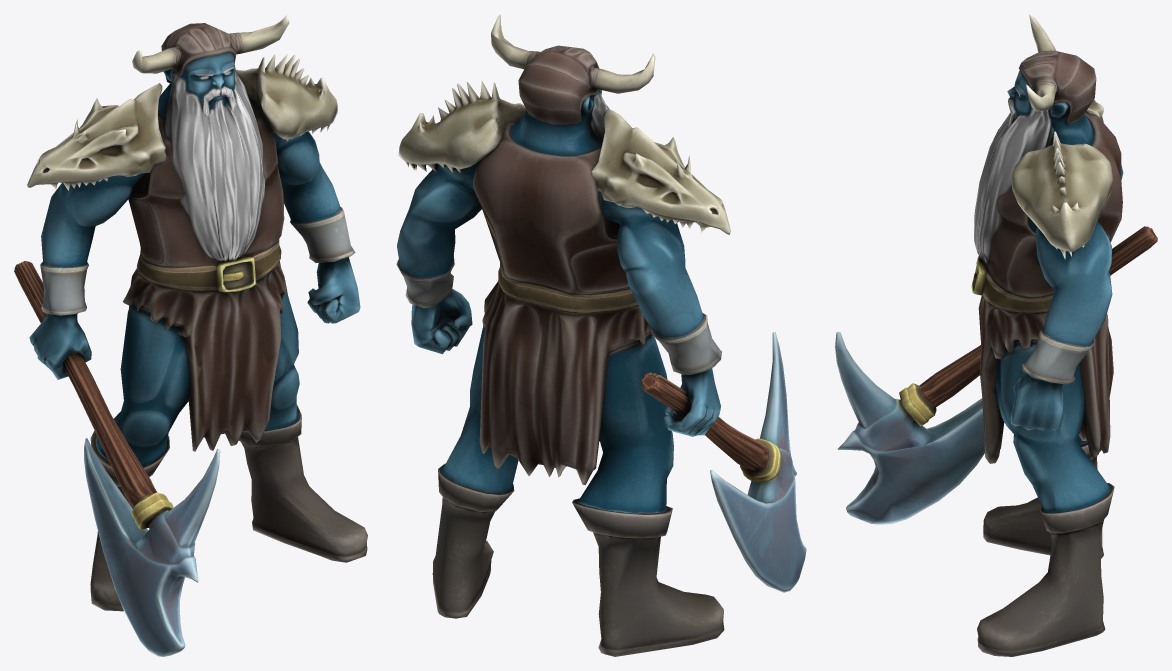
The model's file is MZ4250 - Frost Giant (Male).glb.
3 views of the same model, side by side, from view 1: azimuth 30°, elevation 25°; view 2: azimuth 150°, elevation 25°; view 3: azimuth 270°, elevation 25° (orthographic). The views are drawn at different scales.
Parts seen in each view (by area): view 1: bdy_low.001, axe_low.001, thing01_low.001; view 2: bdy_low.001, thing01_low.001, axe_low.001; view 3: bdy_low.001, axe_low.001, thing01_low.001.
Boxes of the visible parts, box(x1,y1,x2,y2) form: bdy_low.001: box(29, 14, 367, 611); axe_low.001: box(14, 261, 220, 656); thing01_low.001: box(27, 54, 337, 190); bdy_low.001: box(396, 14, 724, 656); thing01_low.001: box(398, 81, 730, 234); axe_low.001: box(641, 332, 806, 592); bdy_low.001: box(971, 14, 1123, 656); axe_low.001: box(835, 226, 1157, 524); thing01_low.001: box(1011, 99, 1112, 259).
Bounding box in the file's own units: 3.72 × 6.18 × 3.34.
Materials: 1 (1 with a texture image).
